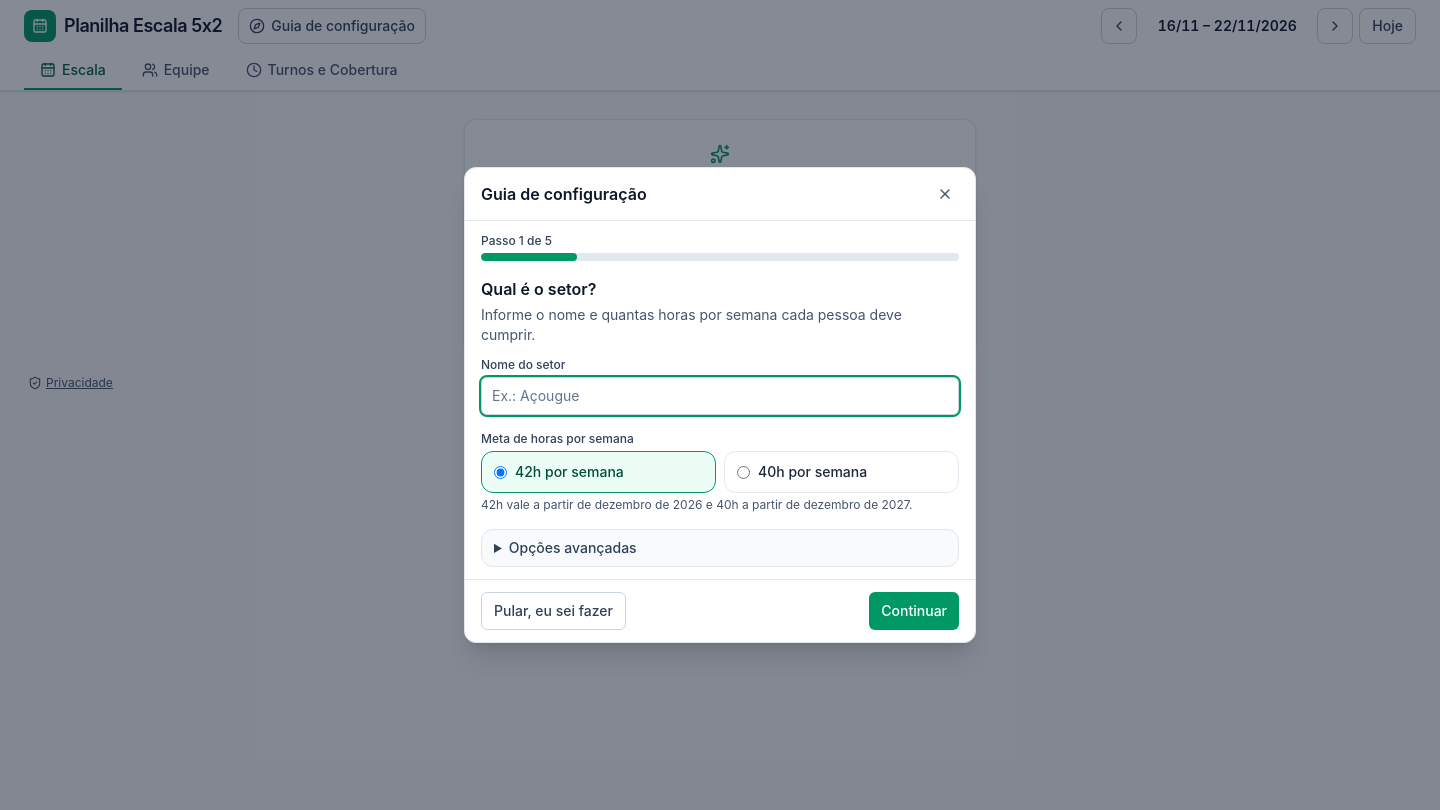
Test case: OnboardingWizard › pular grava skipped e não reabre
Click the button "Pular, eu sei fazer". click: x=553, y=611
box: [481,592,626,630]
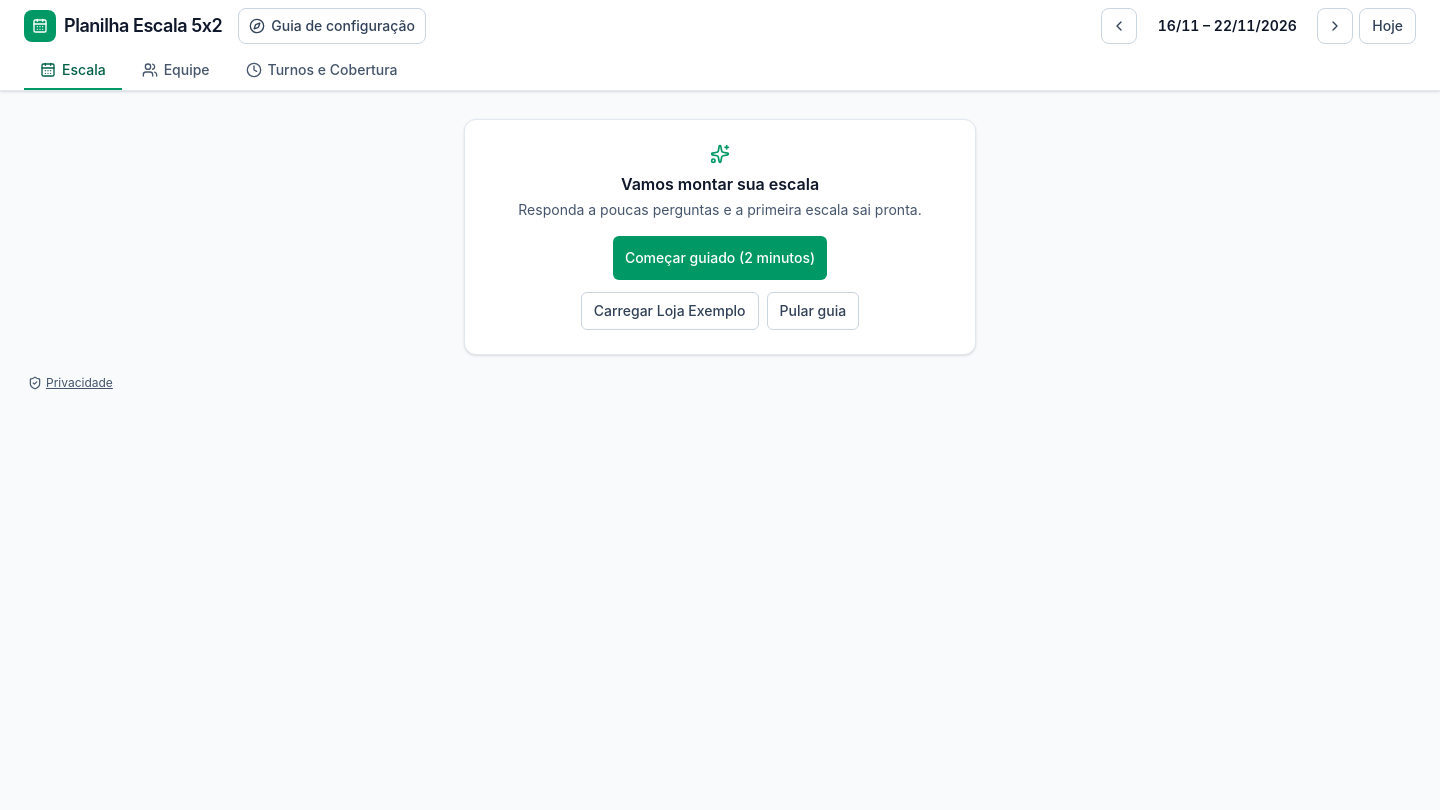
Expected: the dialog is gone
